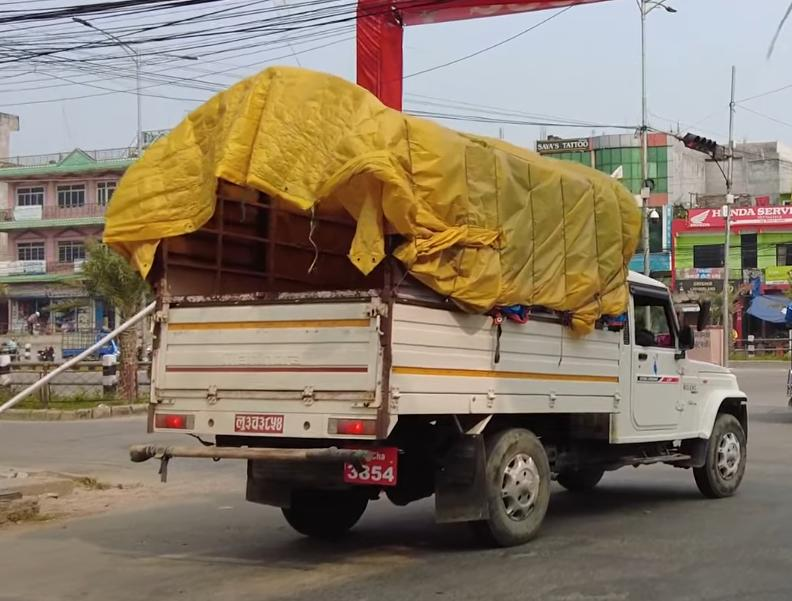transport_vehicle: (91, 67, 773, 561)
